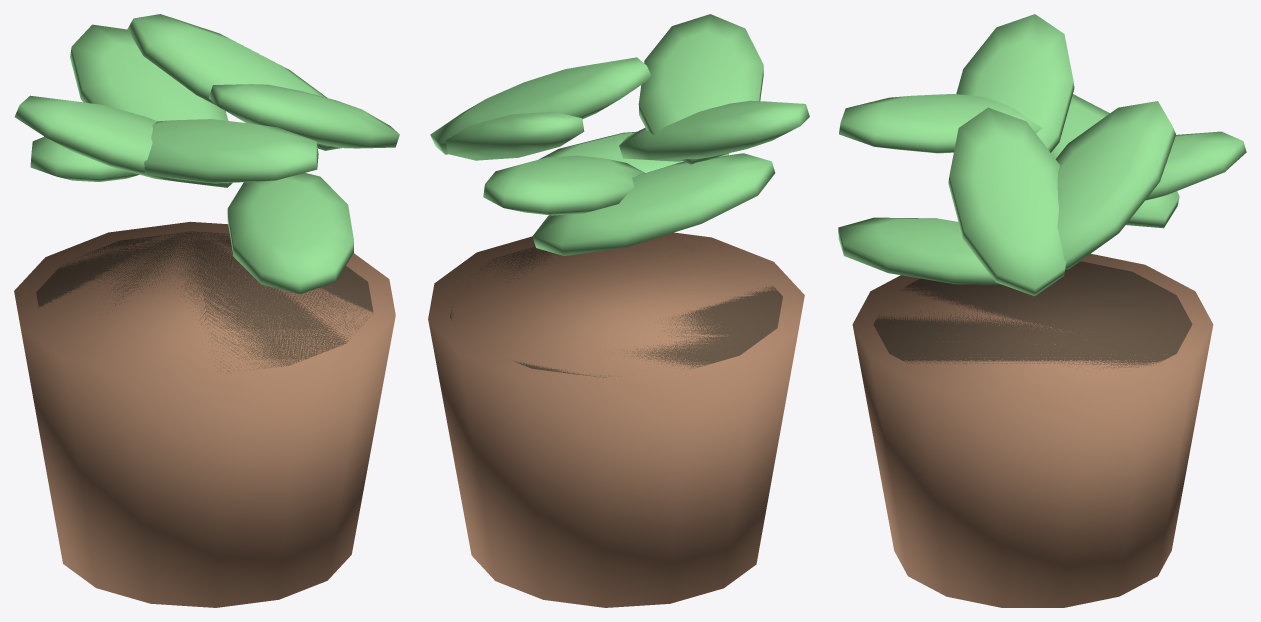
The model's file is Erva.fbx.
The picture shows the model from 3 angles, left to right: view 1: azimuth 30°, elevation 25°; view 2: azimuth 150°, elevation 25°; view 3: azimuth 270°, elevation 25°; orthographic projection. The views are drawn at different scales.
Visible parts, largest first — view 1: Erva; view 2: Erva; view 3: Erva.
Boxes of the visible parts, x1=… form: Erva: x1=14, y1=14, x2=399, y2=607; Erva: x1=428, y1=14, x2=809, y2=607; Erva: x1=838, y1=14, x2=1246, y2=607.
Bounding box in the file's own units: 0.2923 × 0.3601 × 0.2943.
